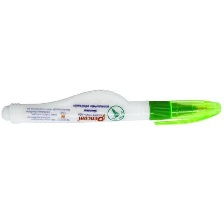correction_fluid: (0, 89, 222, 127)
